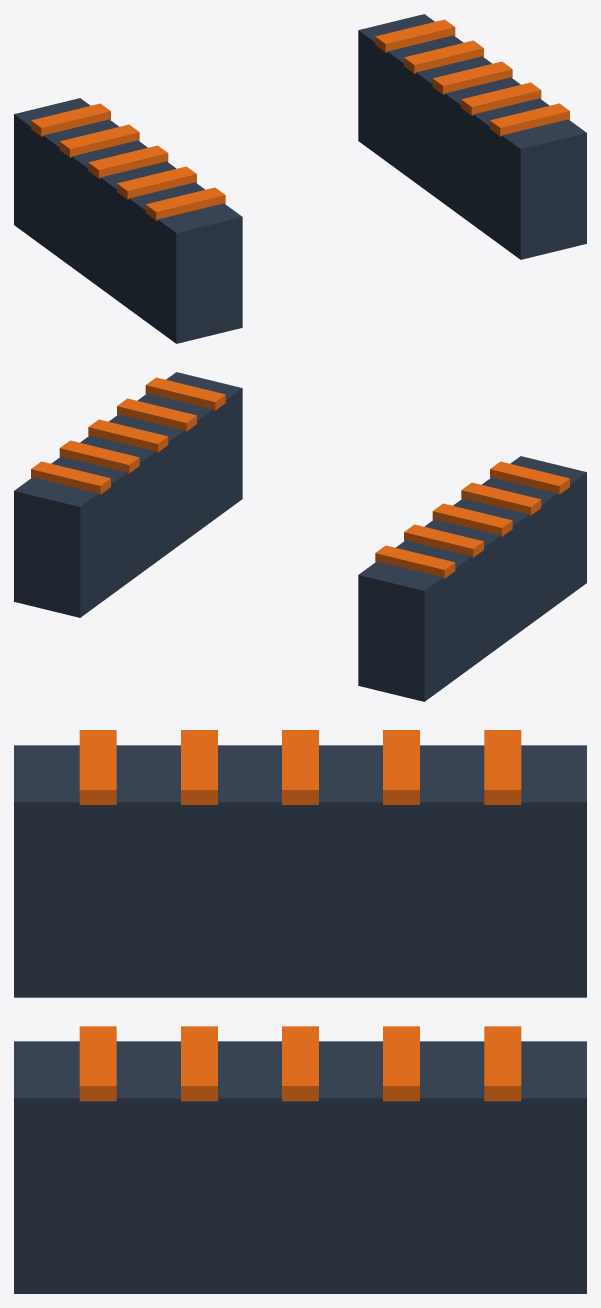
File: tracks.glb
3 views of the same model, one above another, from view 1: azimuth 30°, elevation 25°; view 2: azimuth 150°, elevation 25°; view 3: azimuth 270°, elevation 25° (orthographic). The views are drawn at different scales.
Visible parts, largest first — view 1: tracks.track.001, tracks.track, tracks.plate.001, tracks.plate.007, tracks.plate.002, tracks.plate.004, tracks.plate.005, tracks.plate.008, tracks.plate.009, tracks.plate.003, tracks.plate, tracks.plate.006; view 2: tracks.track.001, tracks.track, tracks.plate.003, tracks.plate.007, tracks.plate, tracks.plate.002, tracks.plate.006, tracks.plate.009, tracks.plate.005, tracks.plate.001, tracks.plate.004, tracks.plate.008; view 3: tracks.track, tracks.track.001, tracks.plate.005, tracks.plate.009, tracks.plate, tracks.plate.004, tracks.plate.006, tracks.plate.007, tracks.plate.008, tracks.plate.001, tracks.plate.002, tracks.plate.003.
Part boxes in pixels (x1,y1,x2,y2): tracks.track.001: [358, 14, 586, 259]; tracks.track: [14, 98, 242, 343]; tracks.plate.001: [59, 124, 139, 157]; tracks.plate.007: [432, 61, 512, 94]; tracks.plate.002: [88, 145, 168, 178]; tracks.plate.004: [145, 187, 225, 220]; tracks.plate.005: [375, 19, 455, 52]; tracks.plate.008: [461, 82, 541, 115]; tracks.plate.009: [490, 103, 569, 136]; tracks.plate.003: [117, 166, 196, 199]; tracks.plate: [31, 103, 110, 136]; tracks.plate.006: [404, 40, 483, 73]; tracks.track.001: [14, 372, 242, 617]; tracks.track: [358, 456, 586, 701]; tracks.plate.003: [461, 482, 541, 515]; tracks.plate.007: [88, 419, 168, 452]; tracks.plate: [375, 545, 455, 578]; tracks.plate.002: [432, 503, 512, 536]; tracks.plate.006: [59, 440, 139, 473]; tracks.plate.009: [145, 377, 225, 410]; tracks.plate.005: [31, 461, 110, 494]; tracks.plate.001: [404, 524, 483, 557]; tracks.plate.004: [490, 461, 569, 494]; tracks.plate.008: [117, 398, 196, 431]; tracks.track: [14, 745, 586, 997]; tracks.track.001: [14, 1041, 586, 1293]; tracks.plate.005: [484, 1026, 521, 1101]; tracks.plate.009: [79, 1026, 116, 1101]; tracks.plate: [484, 730, 521, 804]; tracks.plate.004: [79, 730, 116, 804]; tracks.plate.006: [383, 1026, 419, 1101]; tracks.plate.007: [282, 1026, 318, 1101]; tracks.plate.008: [181, 1026, 217, 1101]; tracks.plate.001: [383, 730, 419, 804]; tracks.plate.002: [282, 730, 318, 804]; tracks.plate.003: [181, 730, 217, 804].
Bounding box in the file's own units: 1.25 × 0.3425 × 0.85.
